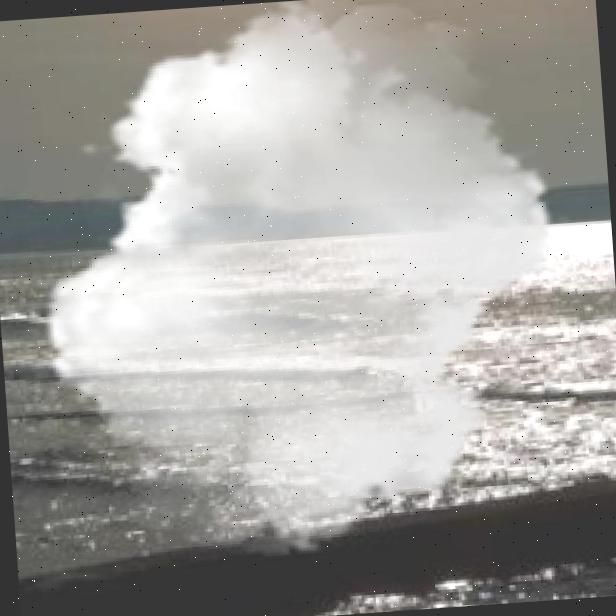smoke: (168, 104, 441, 388)
